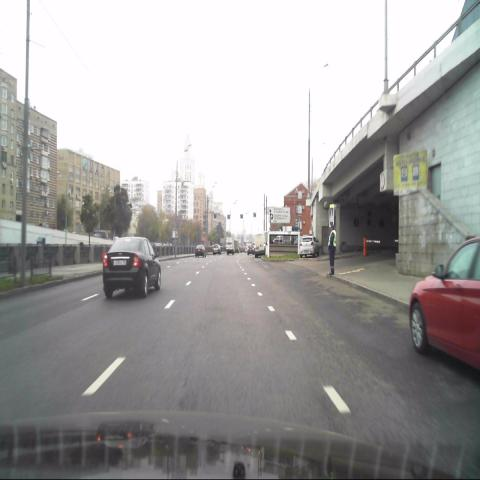5_19_1: (329, 204, 336, 230)
